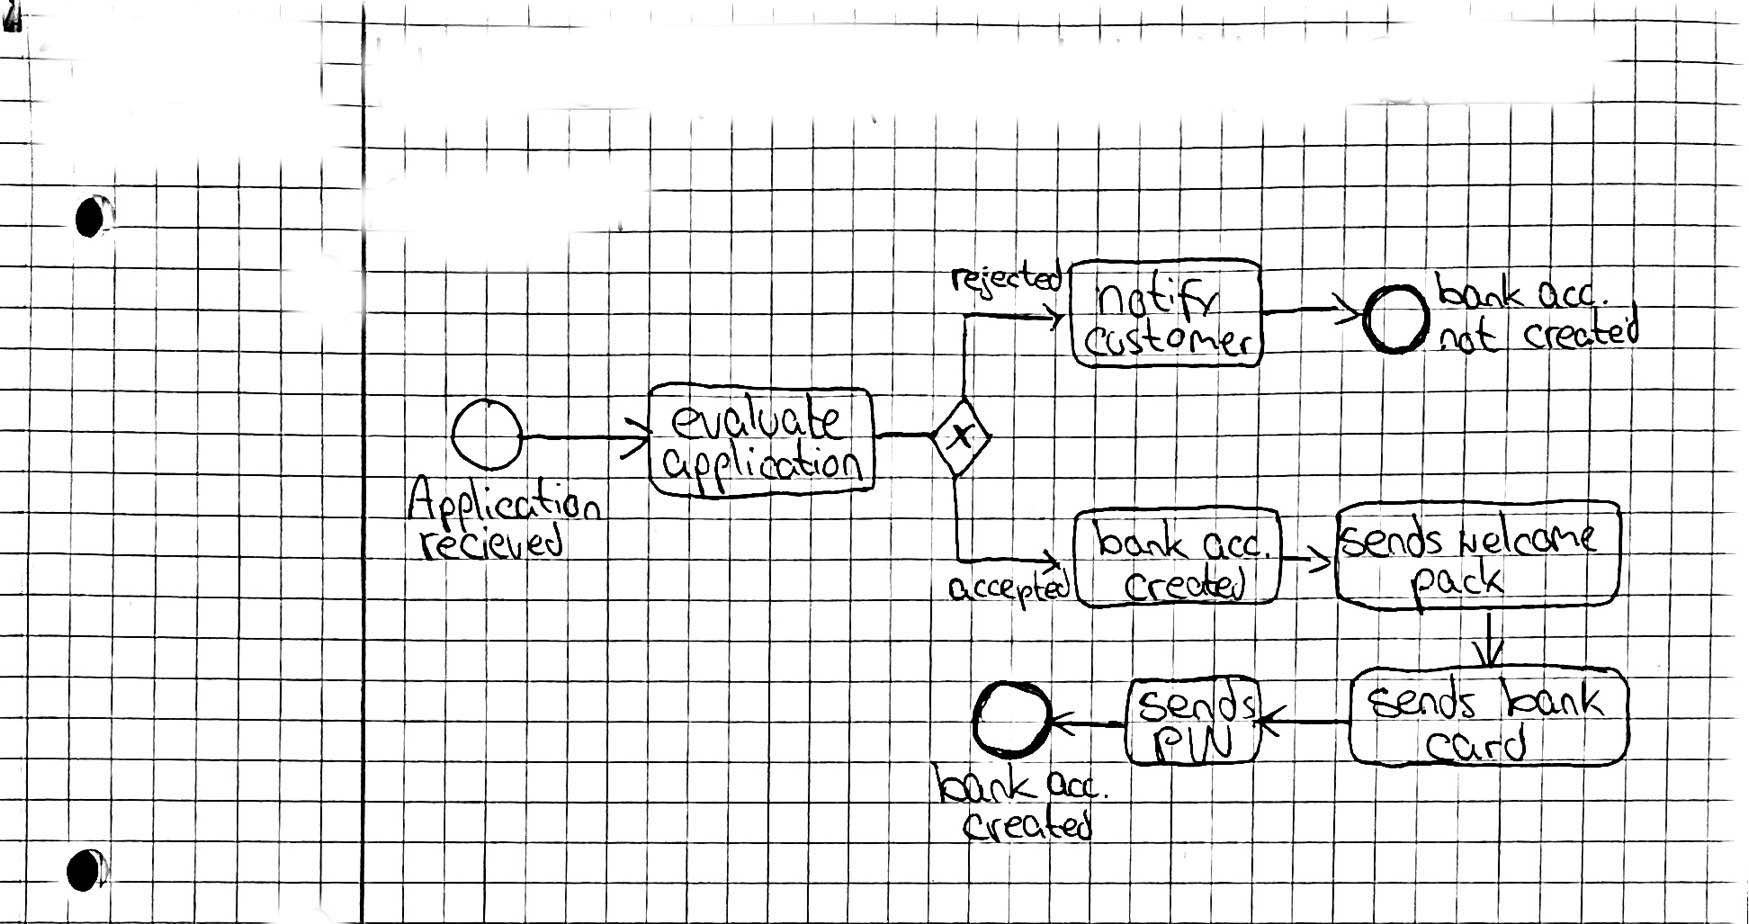Application: (399, 472, 608, 530)
PW: (1150, 720, 1240, 769)
acc.: (1533, 271, 1618, 311), (1196, 524, 1279, 562), (1046, 762, 1114, 806)
accepted: (940, 569, 1073, 612)
application: (657, 442, 869, 493)
bank: (1495, 670, 1609, 724), (1082, 513, 1200, 562), (927, 762, 1038, 810), (1430, 268, 1538, 312)
card: (1427, 720, 1535, 767)
created: (1525, 310, 1650, 358), (957, 808, 1101, 847), (1123, 562, 1254, 604)
customer: (1079, 318, 1261, 365)
evaluate: (667, 390, 844, 449)
not: (1427, 315, 1510, 355)
notify: (1093, 271, 1227, 325)
pack: (1402, 559, 1506, 611)
recieved: (416, 524, 570, 570)
rejected: (949, 256, 1071, 302)
sends: (1361, 677, 1490, 725), (1336, 512, 1451, 562), (1139, 686, 1259, 733)
welcome: (1452, 510, 1600, 559)
